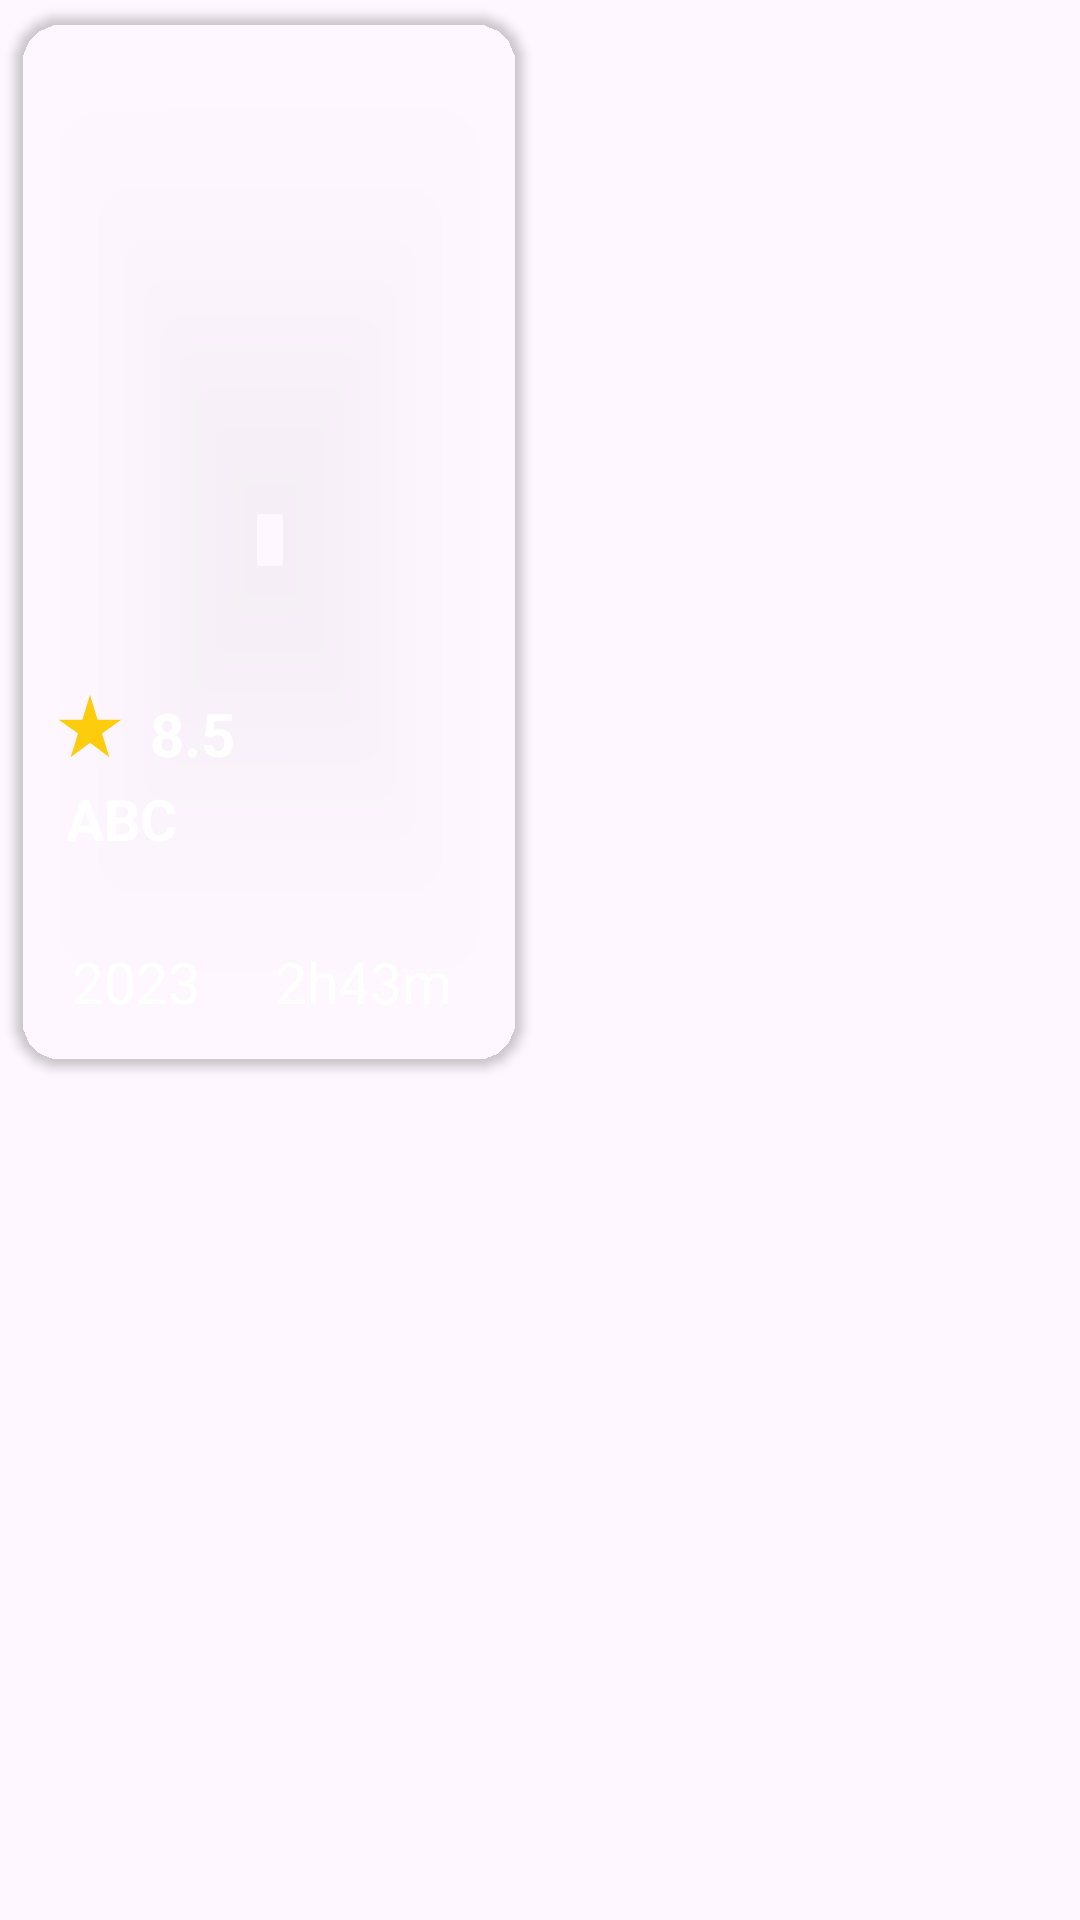

Named icons in this screenshot (1080w x 1920h) and their centers, (x,y):
star: (90,726)
